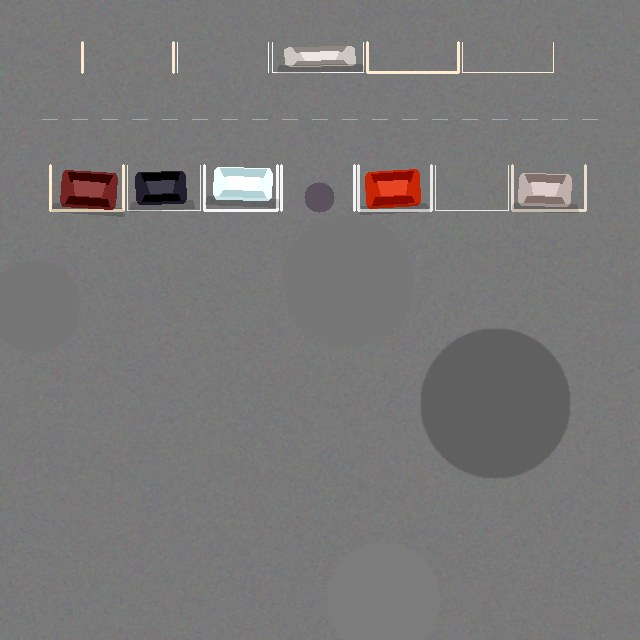space-empty: (281, 165, 354, 210), (435, 165, 508, 210), (82, 42, 173, 72), (177, 42, 268, 72), (367, 42, 458, 72), (462, 42, 553, 72)
space-occupied: (50, 165, 123, 210), (127, 165, 200, 210), (204, 165, 277, 210), (358, 165, 431, 210), (512, 165, 585, 210), (272, 42, 363, 72)
